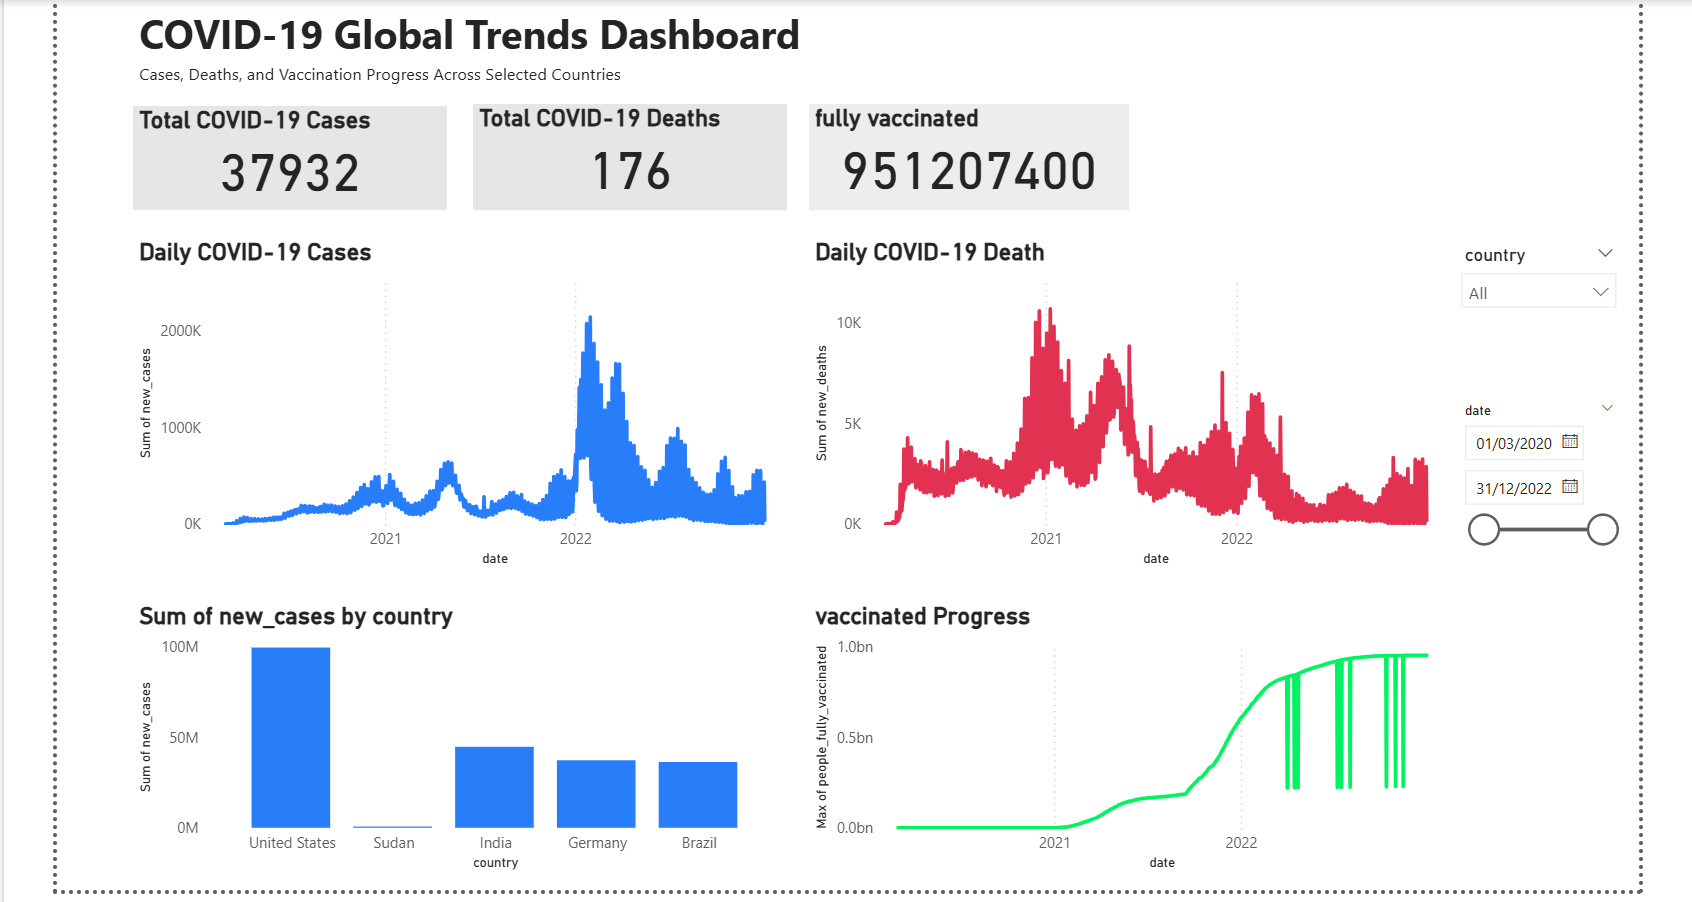

This screenshot's page, from the dashboard's own definition file:
{"tool":"powerbi","page":{"name":"Page 1","canvas":[1280,720],"ordinal":0},"visuals":[{"type":"lineChart","title":"Daily COVID-19 Cases","fields":{"Y":["Sum(covid_clean.new_cases)"],"Category":["covid_clean.date"]},"box":[61.5,192.5,529.1,270.2],"z":0},{"type":"slicer","fields":{"Values":["covid_clean.country"]},"box":[1126.1,192.5,145.6,93.8],"z":1000},{"type":"lineChart","title":"Daily COVID-19 Death","fields":{"Y":["Sum(covid_clean.new_deaths)"],"Category":["covid_clean.date"]},"box":[608.4,192.5,517.8,270.2],"z":2000},{"type":"kpi","title":"fully vaccinated","fields":{"Indicator":["Max(covid_clean.people_fully_vaccinated)"],"TrendLine":["covid_clean.date"]},"box":[608.4,84.1,258.9,85.8],"z":3000},{"type":"kpi","title":"Total COVID-19 Cases","fields":{"Indicator":["Sum(covid_clean.new_cases)"],"TrendLine":["covid_clean.date"]},"box":[61.5,85.8,254,84.1],"z":4000},{"type":"kpi","title":"Total COVID-19 Deaths","fields":{"Indicator":["Sum(covid_clean.new_deaths)"],"TrendLine":["covid_clean.date"]},"box":[336.5,84.1,254,85.8],"z":5000},{"type":"lineChart","title":"vaccinated Progress","fields":{"Y":["Max(covid_clean.people_fully_vaccinated)"],"Category":["covid_clean.date"]},"box":[608.4,487,517.8,221.7],"z":6000},{"type":"clusteredColumnChart","fields":{"Category":["covid_clean.country"],"Y":["Sum(covid_clean.new_cases)"]},"box":[61.5,487,529.1,221.7],"z":7000},{"type":"slicer","fields":{"Values":["covid_clean.date"]},"box":[1126.1,320.4,145.6,153.7],"z":8000},{"type":"textbox","box":[61.5,0,747.5,59.9],"z":9000},{"type":"textbox","box":[61.5,45.3,415.8,29.1],"z":10000}]}

Visuals, with their boxes on the page's 1280x720 design canvas (x1, y1, x2, y2). These are canvas units, not pixel positions in the 1692x902 screenshot, which may show the page scaled, cropped or inside an application window:
"Daily COVID-19 Cases" lineChart: rect(62, 192, 591, 463)
slicer - covid_clean.country: rect(1126, 192, 1272, 286)
"Daily COVID-19 Death" lineChart: rect(608, 192, 1126, 463)
"fully vaccinated" kpi: rect(608, 84, 867, 170)
"Total COVID-19 Cases" kpi: rect(62, 86, 316, 170)
"Total COVID-19 Deaths" kpi: rect(336, 84, 590, 170)
"vaccinated Progress" lineChart: rect(608, 487, 1126, 709)
clusteredColumnChart - covid_clean.country x Sum(covid_clean.new_cases): rect(62, 487, 591, 709)
slicer - covid_clean.date: rect(1126, 320, 1272, 474)
textbox: rect(62, 0, 809, 60)
textbox: rect(62, 45, 477, 74)
